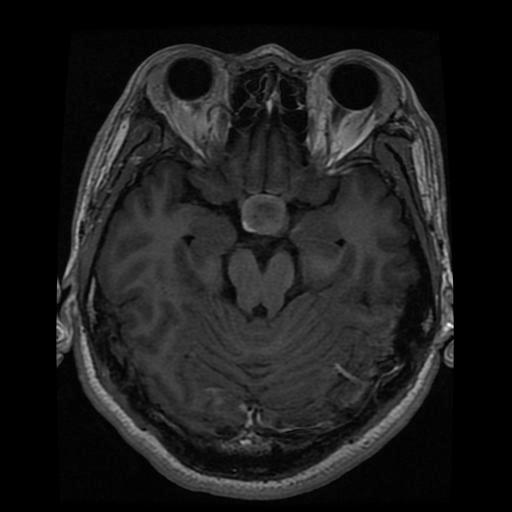Tumour-Pituitary: (239, 192, 292, 241)
